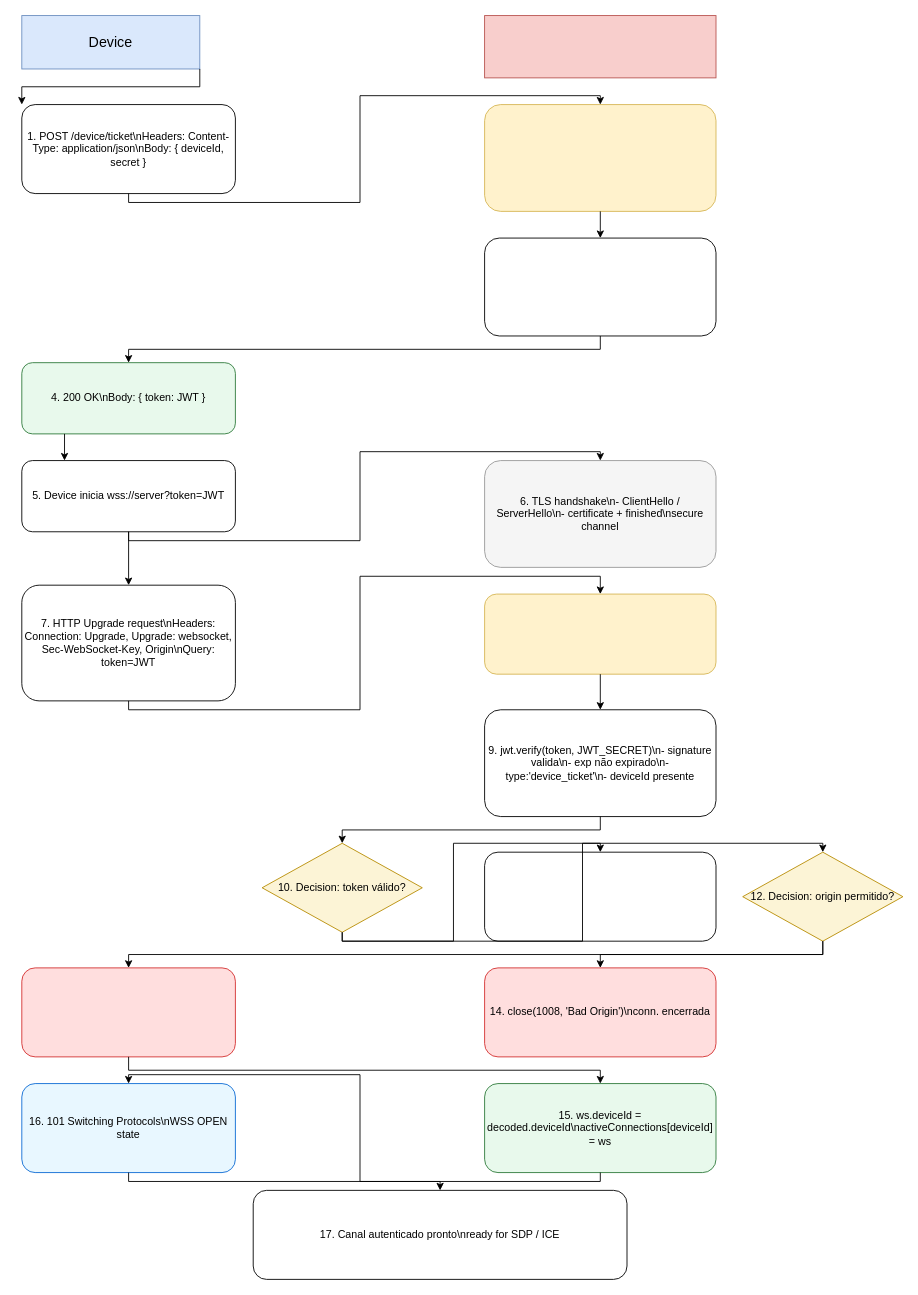
This 918x1295 diagram has some shape labels left out. The centre of each missing label's shape, as x and y in pixels:
11. Origin validation\n- req.headers.origin allowlist\n- previne CSWSH: point (600, 896)
13. close(1008, 'Invalid token')\nconn. encerrada: point (128, 1012)
2. validateDeviceMiddleware(req)\n- load device record\n- compare secret hash: point (600, 157)
3. jwt.sign({ deviceId, type:'device_ticket', iat, exp: now + 30s }): point (600, 286)
8. extract token from req.url\n(token query param): point (600, 633)
Server\n(HTTPS + Express + WSS): point (600, 46)
